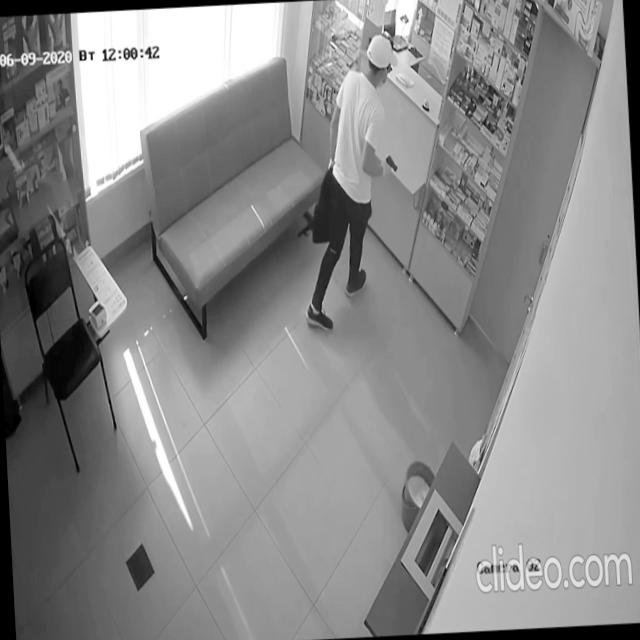gun: (385, 153, 399, 176)
person with a gun: (292, 30, 412, 339)
